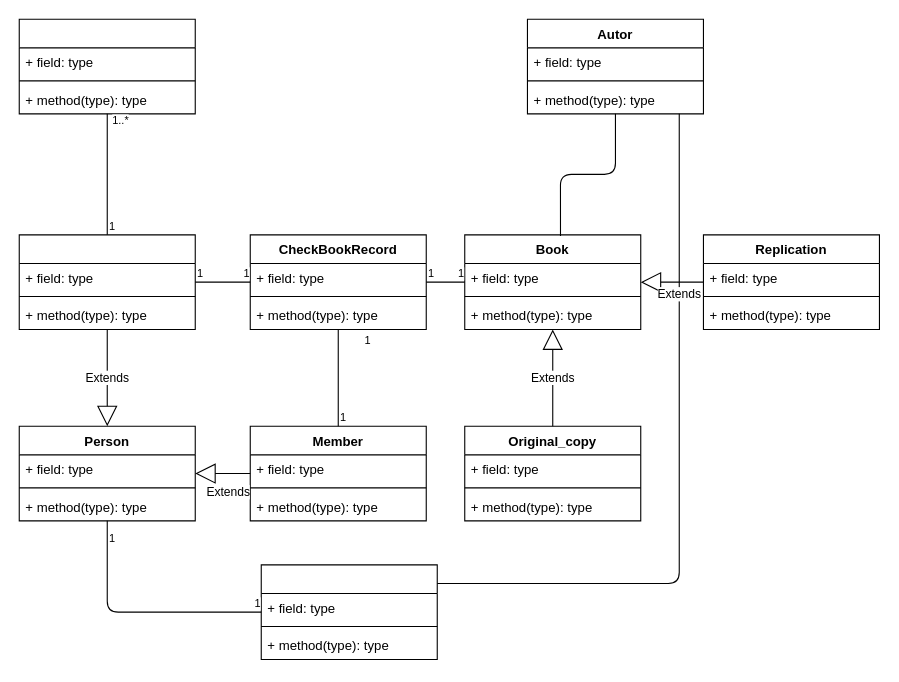
This 899x682 diagram has some shape labels left out. The box of each missing label's shape, as (x1, y1, x2, y2) in pixels:
Address: (260, 564, 437, 659)
Privelege: (18, 18, 195, 114)
User: (18, 234, 195, 329)
